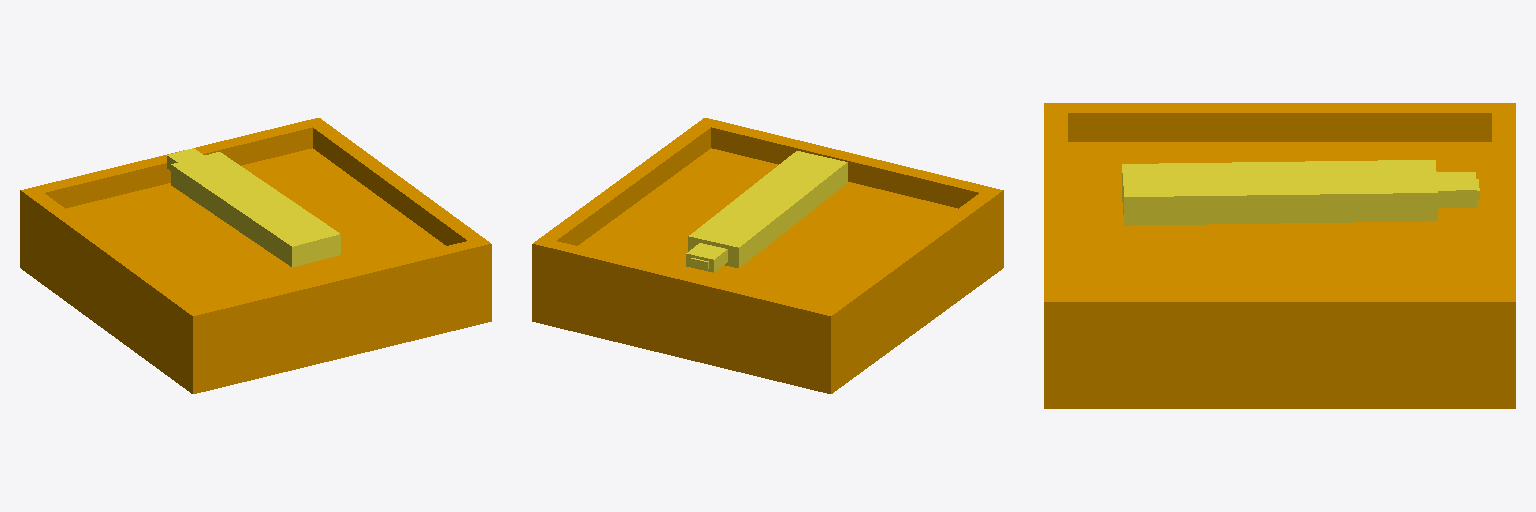
The robot description file, URDF, robot "sentry_lift_test":
<?xml version='1.0' encoding='utf-8'?>
<robot name="sentry_lift_test">
  <link name="chassis">
    <visual>
      <origin xyz="-.285 0 -.10585" rpy="0 0 0" />
      <geometry>
        <box size=".03 .60 .04" />
      </geometry>
    </visual>
    <visual>
      <origin xyz=".285 0 -.10585" rpy="0 0 0" />
      <geometry>
        <box size=".03 .60 .04" />
      </geometry>
    </visual>
    <visual>
      <origin xyz="0 -.285 -.10585" rpy="0 0 0" />
      <geometry>
        <box size=".54 .03 .04" />
      </geometry>
    </visual>
    <visual>
      <origin xyz="0 .285 -.10585" rpy="0 0 0" />
      <geometry>
        <box size=".54 .03 .04" />
      </geometry>
    </visual>
    <visual>
      <origin xyz="0 0 -.18085" rpy="0 0 0" />
      <geometry>
        <box size=".60 .60 .11" />
      </geometry>
    </visual>
  </link>
  <link name="base_footprint" />
  <link name="front_left_steer_link">
    <visual>
      <origin xyz="0 0 -0.027" rpy="0 0 0" />
      <geometry>
        <cylinder radius="0.048" length="0.098" />
      </geometry>
    </visual>
  </link>
  <link name="front_left_wheel_link">
    <visual>
      <origin xyz="-0.019453 0.00012233 -7.8814e-05" rpy="0 1.5707963 0" />
      <geometry>
        <cylinder radius="0.0535" length="0.05" />
      </geometry>
    </visual>
  </link>
  <link name="front_right_steer_link">
    <visual>
      <origin xyz="0 0 -0.025" rpy="0 0 0" />
      <geometry>
        <cylinder radius="0.048" length="0.098" />
      </geometry>
    </visual>
  </link>
  <link name="front_right_wheel_link">
    <visual>
      <origin xyz="-0.019538 0.00012734 -8.2044e-05" rpy="0 1.5707963 0" />
      <geometry>
        <cylinder radius="0.0535" length="0.05" />
      </geometry>
    </visual>
  </link>
  <link name="rear_right_steer_link">
    <visual>
      <origin xyz="0 0 -0.039" rpy="0 0 0" />
      <geometry>
        <cylinder radius="0.048" length="0.098" />
      </geometry>
    </visual>
  </link>
  <link name="rear_right_wheel_link">
    <visual>
      <origin xyz="-0.019684 0.00013642 -8.7894e-05" rpy="0 1.5707963 0" />
      <geometry>
        <cylinder radius="0.0535" length="0.05" />
      </geometry>
    </visual>
  </link>
  <link name="rear_left_steer_link">
    <visual>
      <origin xyz="0 0 -0.027" rpy="0 0 0" />
      <geometry>
        <cylinder radius="0.048" length="0.098" />
      </geometry>
    </visual>
  </link>
  <link name="rear_left_wheel_link">
    <visual>
      <origin xyz="-0.019684 -8.7894e-05 -0.00013642" rpy="0 1.5707963 0" />
      <geometry>
        <cylinder radius="0.0535" length="0.05" />
      </geometry>
    </visual>
  </link>
  <link name="lift_carriage" />
  <link name="base_link">
    <visual>
      <origin xyz="0 0 0" rpy="0 0 0" />
      <geometry>
        <box size=".40 .10 .04" />
      </geometry>
    </visual>
    <visual>
      <origin xyz=".22 0 0" rpy="0 0 0" />
      <geometry>
        <box size=".06 .055 .025" />
      </geometry>
    </visual>
    <visual>
      <origin xyz=".252 0 0" rpy="0 0 0" />
      <geometry>
        <box size=".004 .035 .014" />
      </geometry>
    </visual>
  </link>
  <link name="livox_frame">
    <visual>
      <origin xyz="0 0 0" rpy="0 0 3.141592653589793" />
      <geometry>
        <mesh filename="file:///home/dengjiaxi/simulation_seu/navigatiosim2/src/pb2025_robot_description/resource/models/mid360/meshes/mid360.dae" scale="1 1 1" />
      </geometry>
    </visual>
  </link>
  <joint name="chassis_to_base_footprint" type="fixed">
    <parent link="chassis" />
    <child link="base_footprint" />
    <origin xyz="0 0 -0.28585" rpy="0 0 0" />
  </joint>
  <joint name="front_left_steer_joint" type="continuous">
    <parent link="chassis" />
    <child link="front_left_steer_link" />
    <origin xyz="-0.159 -0.159 -0.156" rpy="0 0 2.3562" />
    <axis xyz="0 0 1" />
  </joint>
  <joint name="front_left_wheel_joint" type="continuous">
    <parent link="front_left_steer_link" />
    <child link="front_left_wheel_link" />
    <origin xyz="0 -0.029 -0.07635" rpy="0 0 -1.5708" />
    <axis xyz="-1 0 0" />
  </joint>
  <joint name="front_right_steer_joint" type="continuous">
    <parent link="chassis" />
    <child link="front_right_steer_link" />
    <origin xyz="0.159 -0.159 -0.156" rpy="0 0 -2.3562" />
    <axis xyz="0 0 1" />
  </joint>
  <joint name="front_right_wheel_joint" type="continuous">
    <parent link="front_right_steer_link" />
    <child link="front_right_wheel_link" />
    <origin xyz="0 -0.029 -0.07635" rpy="0 0 -1.5708" />
    <axis xyz="-1 0 0" />
  </joint>
  <joint name="rear_right_steer_joint" type="continuous">
    <parent link="chassis" />
    <child link="rear_right_steer_link" />
    <origin xyz="0.159 0.159 -0.16735" rpy="0 0 -0.7854" />
    <axis xyz="0 0 1" />
  </joint>
  <joint name="rear_right_wheel_joint" type="continuous">
    <parent link="rear_right_steer_link" />
    <child link="rear_right_wheel_link" />
    <origin xyz="0 -0.029 -0.065" rpy="0 0 -1.5707963" />
    <axis xyz="-1 0 0" />
  </joint>
  <joint name="rear_left_steer_joint" type="continuous">
    <parent link="chassis" />
    <child link="rear_left_steer_link" />
    <origin xyz="-0.159 0.159 -0.16735" rpy="0 0 0.7853982" />
    <axis xyz="0 0 1" />
  </joint>
  <joint name="rear_left_wheel_joint" type="continuous">
    <parent link="rear_left_steer_link" />
    <child link="rear_left_wheel_link" />
    <origin xyz="0 -0.029 -0.065" rpy="1.5707963 0 -1.5707963" />
    <axis xyz="-1 0 0" />
  </joint>
  <joint name="lift_joint" type="prismatic">
    <parent link="chassis" />
    <child link="lift_carriage" />
    <origin xyz="0 0 -0.08835" rpy="0 0 0" />
    <axis xyz="0 0 1" />
    <limit lower="0" upper=".3" effort="300" velocity=".25" />
  </joint>
  <joint name="gimbal_yaw_joint" type="continuous">
    <parent link="lift_carriage" />
    <child link="base_link" />
    <origin xyz="0 0 .0165" rpy="0 0 1.6032" />
    <axis xyz="0 0 1" />
  </joint>
  <joint name="radar_mount" type="fixed">
    <parent link="base_link" />
    <child link="livox_frame" />
    <origin xyz="0 0 0" rpy="0 0 0" />
  </joint>
</robot>

--- Render facts (derived) ---
3 views of the same robot in one strip: view 1: azimuth 30°, elevation 25°; view 2: azimuth 150°, elevation 25°; view 3: azimuth 270°, elevation 25° (orthographic).
Model sentry_lift_test with 13 links and 12 joints (9 continuous, 1 prismatic, 2 fixed), rooted at chassis, posed all joints at 0.
Visible links, largest first — view 1: chassis, base_link; view 2: chassis, base_link; view 3: chassis, base_link.
Link boxes in pixels (x1,y1,x2,y2): chassis: (20, 118, 491, 393); base_link: (167, 148, 340, 267); chassis: (532, 118, 1003, 393); base_link: (686, 151, 847, 272); chassis: (1044, 103, 1515, 408); base_link: (1122, 160, 1479, 225).
Bounding box of the posed robot: 0.6 × 0.6 × 0.2341 m (x, y, z).
Geometry: only primitive shapes (box / cylinder / sphere) drawn; not drawn: 1 mesh visual (reference in a form the renderer does not follow).
